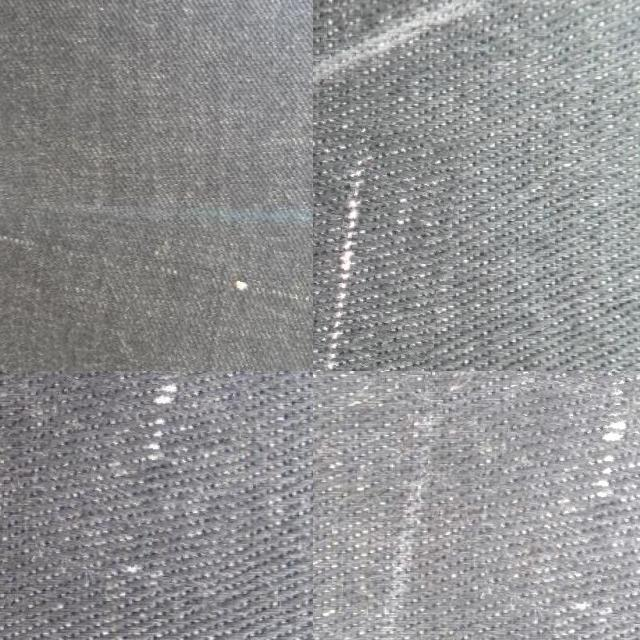stains: (0, 204, 313, 371), (43, 371, 253, 583), (492, 371, 640, 620), (313, 115, 448, 371)
